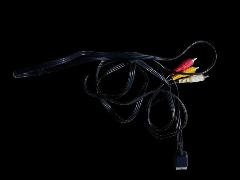electronic: (13, 39, 218, 171)
